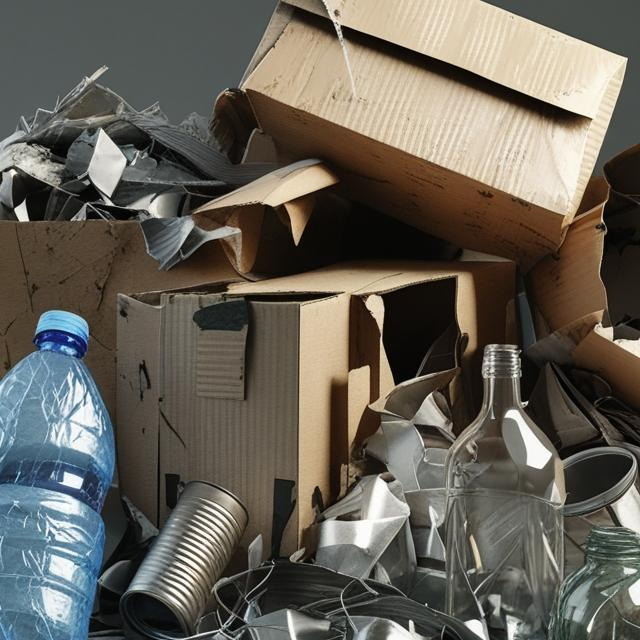metal: (123, 472, 241, 640)
plastic: (0, 300, 113, 640)
